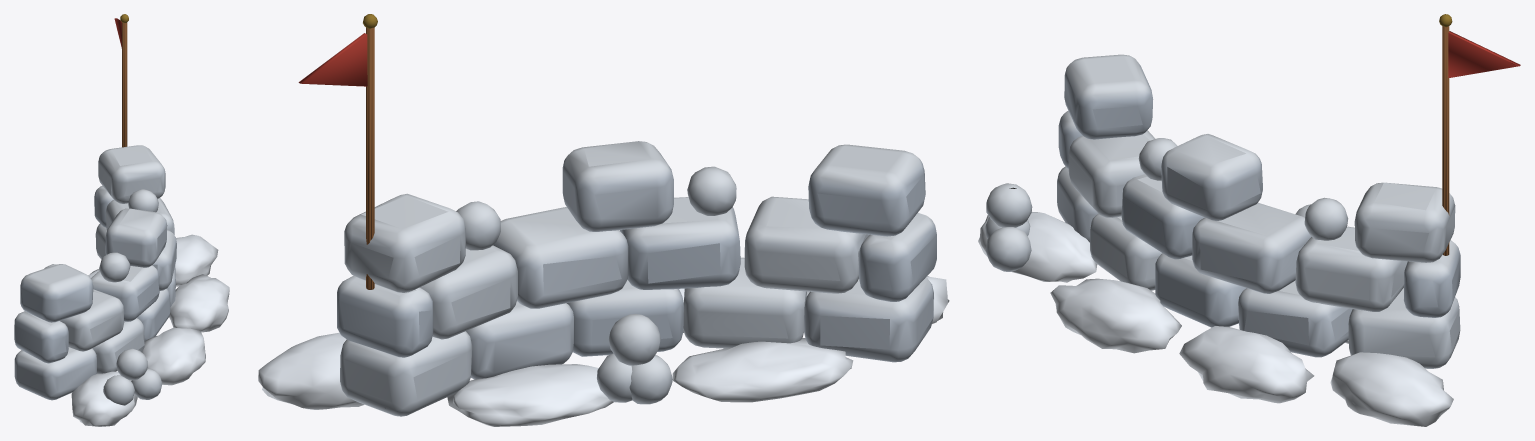
The model's file is snow_fort.glb.
3 renders of one model, left to right at view 1: azimuth 30°, elevation 25°; view 2: azimuth 150°, elevation 25°; view 3: azimuth 270°, elevation 25°, orthographic. The views are drawn at different scales.
Parts seen in each view (by area): view 1: ammo; view 2: ammo; view 3: ammo.
Part boxes in pixels (x1,y1,x2,y2): ammo: (14, 14, 229, 426); ammo: (258, 14, 949, 426); ammo: (978, 14, 1520, 426).
Size of the model in its own units: 1.91 by 1.6 by 2.1.
1 material, 1 textured.
